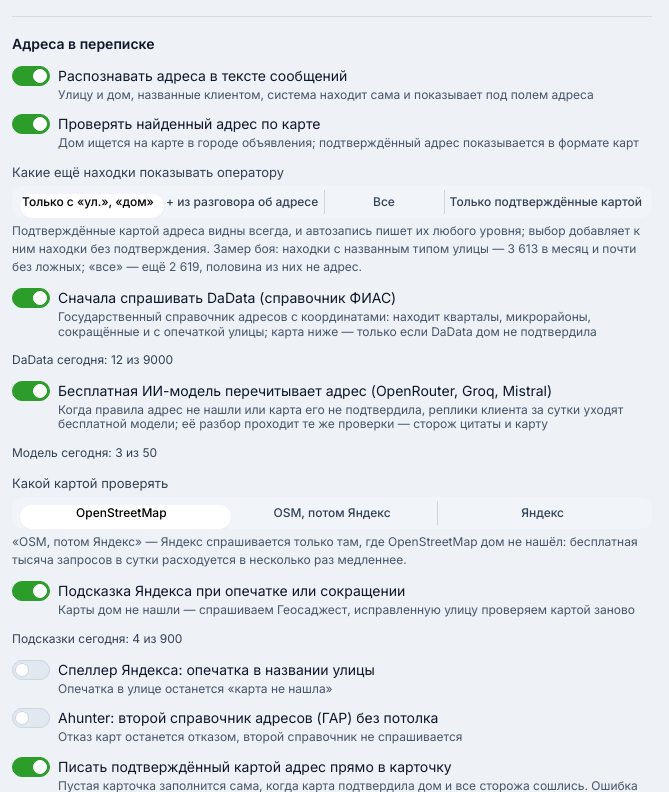
настройки адреса › DaData: тумблер шлёт своё поле, расход виден, без ключа — предупреждение
The width and height of the screenshot is (669, 792).
expect the text with test id "dadata-usage" shows "12 из 9000": met, box [12,352,173,367]
Click the switch labelled "Сначала спрашивать DaData": (332, 314) [12,288,652,339]
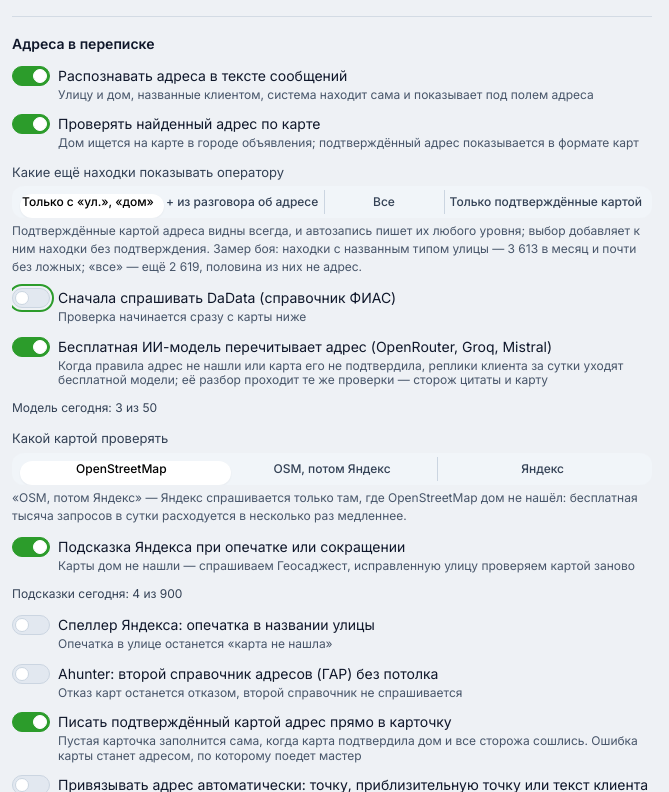
expect the text with test id "dadata-usage" is gone: met
